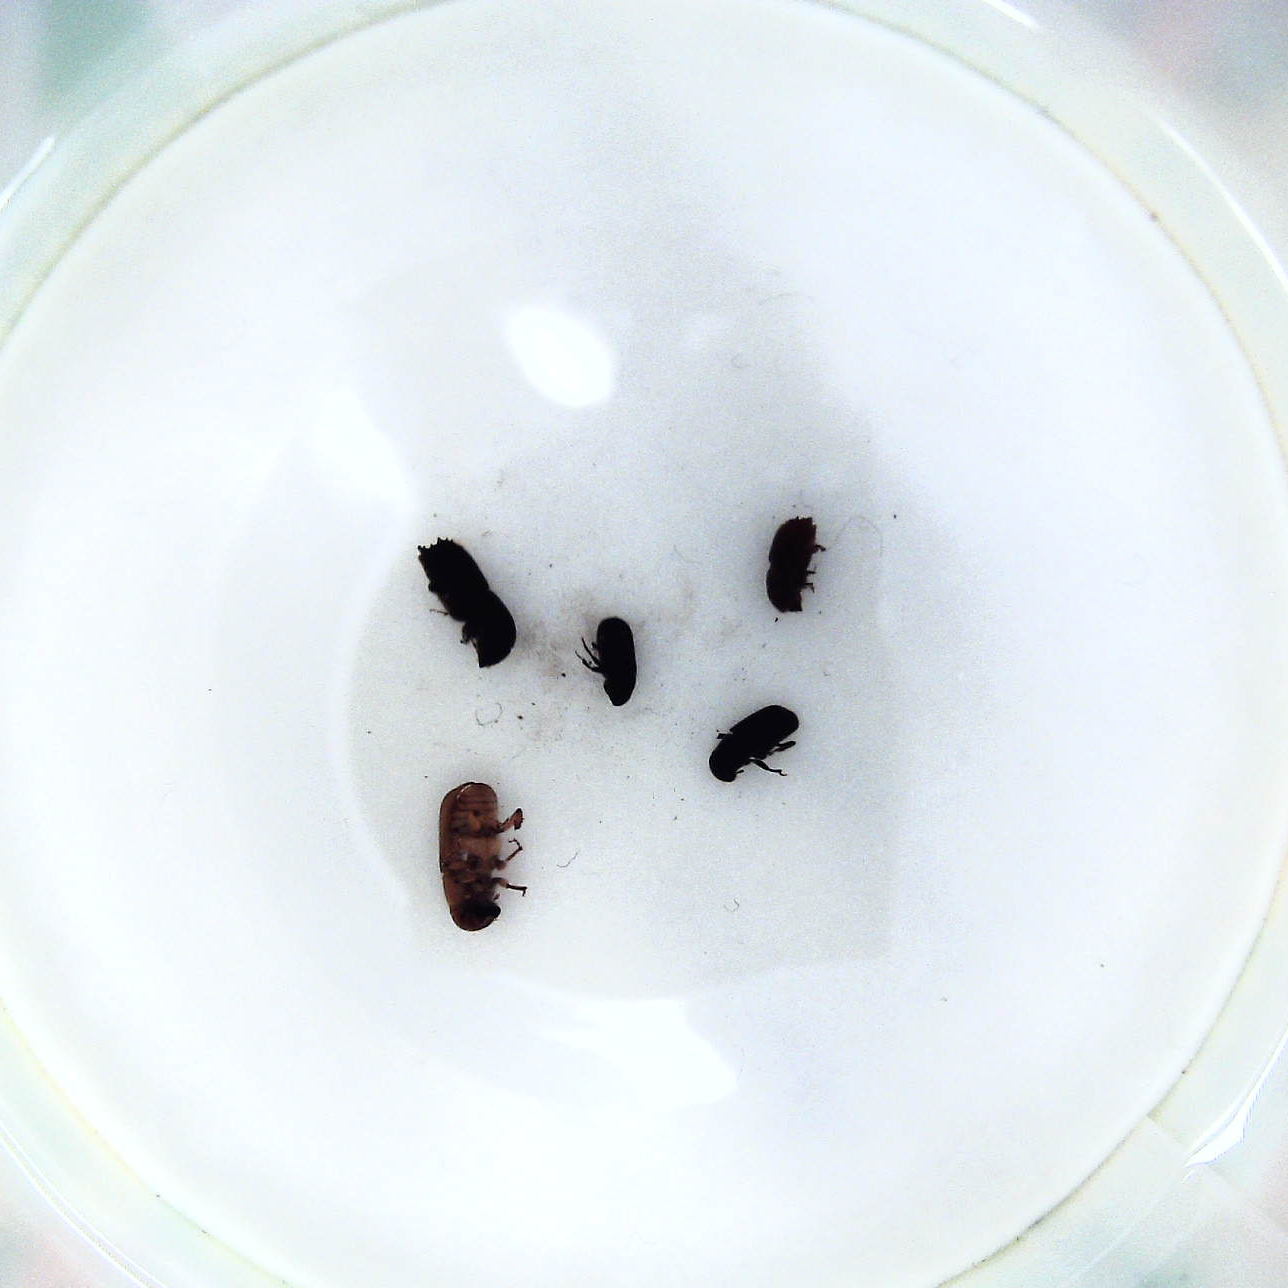Boerner: (414, 535, 521, 670)
Leconte: (431, 780, 531, 934)
armandi: (707, 699, 809, 786)
coleoptera: (576, 612, 643, 712)
linnaeus: (763, 510, 826, 615)
